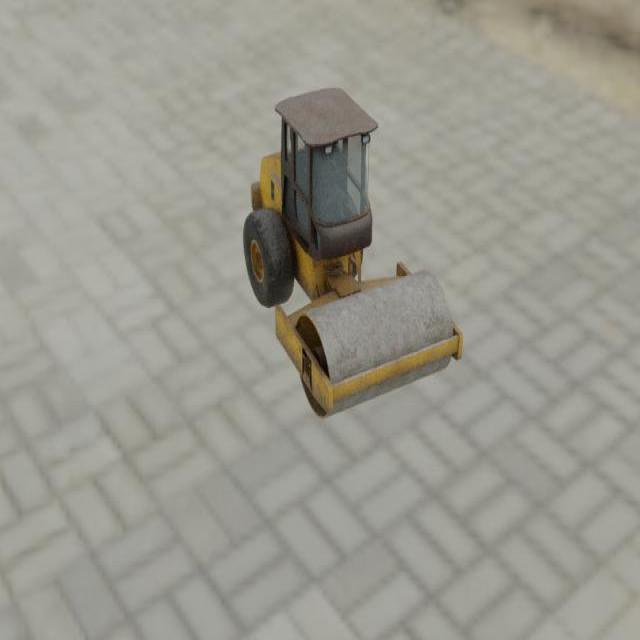Roller: (242, 86, 463, 418)
